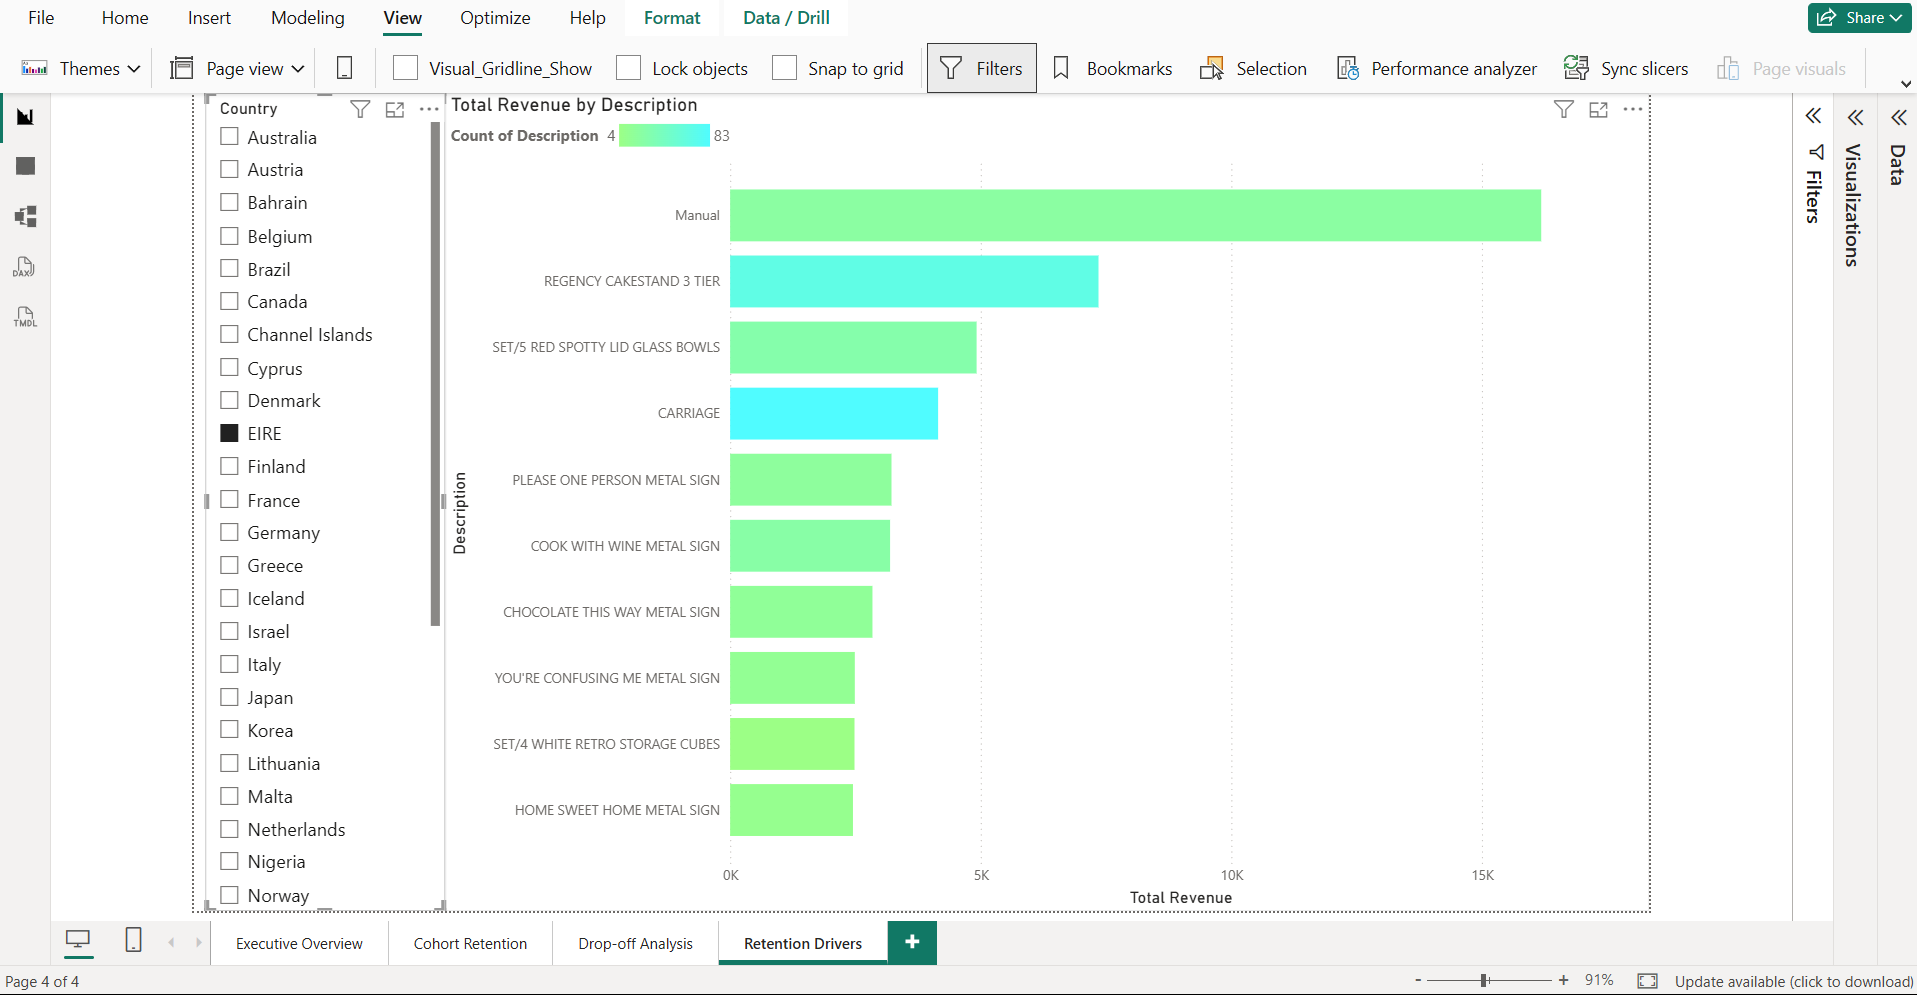

What the dashboard file says about the page in this screenshot:
{"tool":"powerbi","page":{"name":"Retention Drivers","canvas":[1280,720],"ordinal":3},"visuals":[{"type":"slicer","fields":{"Values":["cleaned_ecommerce_orders.Country"]},"box":[9.6,0,211.3,720.4],"z":0},{"type":"clusteredBarChart","fields":{"Category":["cleaned_ecommerce_orders.Description"],"Y":["cleaned_ecommerce_orders.Total Revenue"]},"box":[220.9,0,1059.4,720.4],"z":1}]}

Visuals, with their boxes on the page's 1280x720 design canvas (x1, y1, x2, y2). These are canvas units, not pixel positions in the 1917x995 screenshot, which may show the page scaled, cropped or inside an application window:
slicer - cleaned_ecommerce_orders.Country: 10,0,221,720
clusteredBarChart - cleaned_ecommerce_orders.Description x cleaned_ecommerce_orders.Total Revenue: 221,0,1280,720
